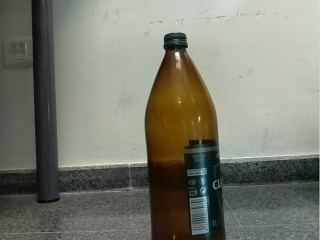pote cristal: (144, 32, 225, 240)
